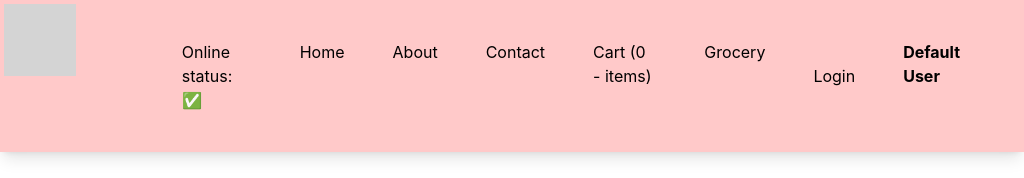
Test: Header Component with Authentication Button › Should render with Logout button
Click the button "Login" at [834, 76], box [789,40,879,112]
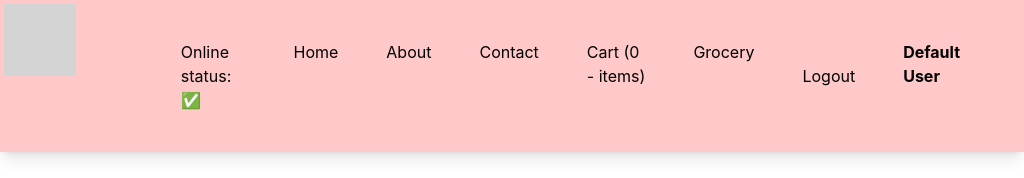
Result: the button "Logout" is shown at [778,40,879,112]
